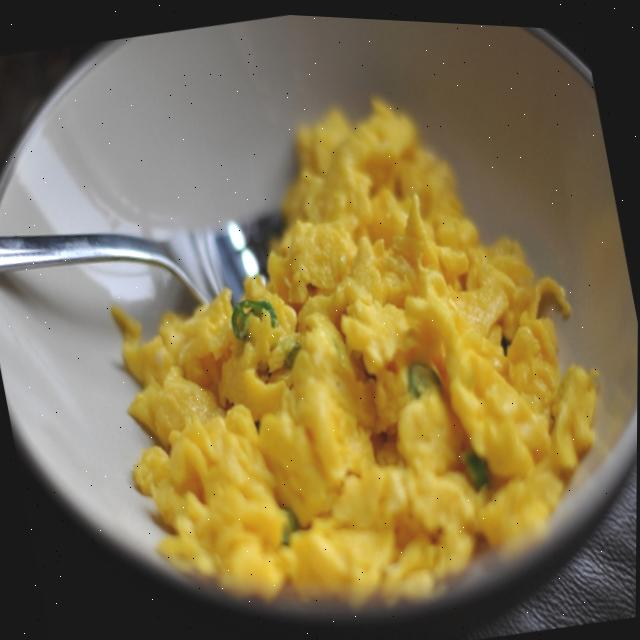鸡蛋料理: (32, 12, 640, 640)
